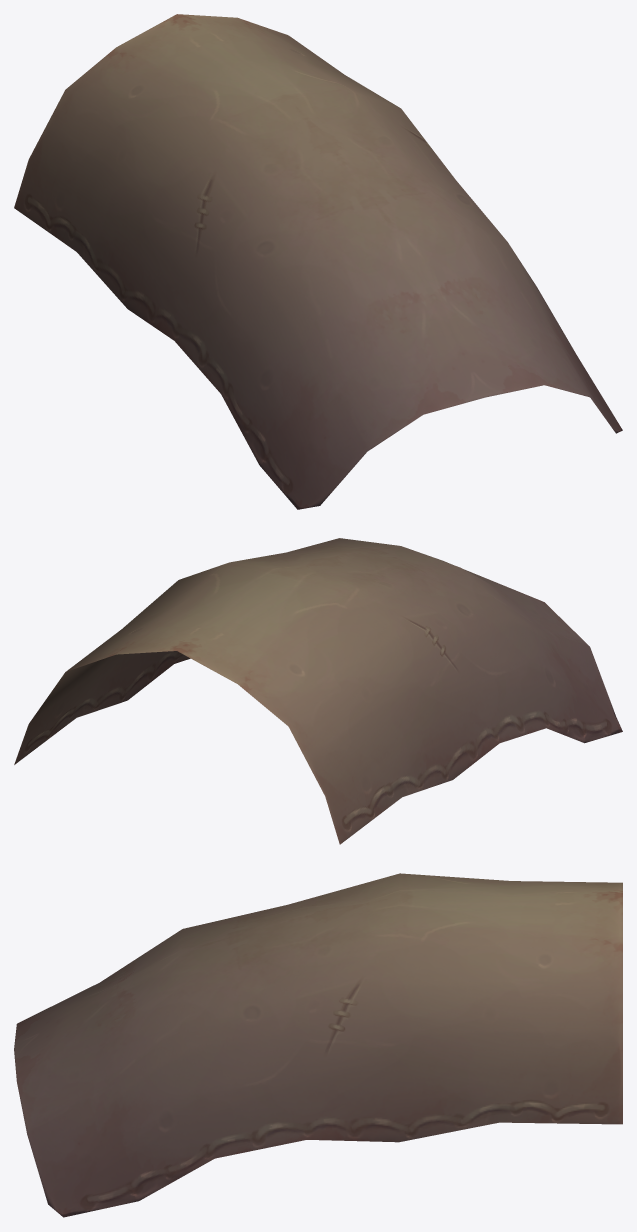
File: caravan_roof.fbx
3 views of the same model, one above another, from view 1: azimuth 30°, elevation 25°; view 2: azimuth 150°, elevation 25°; view 3: azimuth 270°, elevation 25° (orthographic).
Visible parts, largest first — view 1: caravan_roof; view 2: caravan_roof; view 3: caravan_roof.
Part boxes in pixels (bbox=[...]): caravan_roof: bbox=[14, 14, 622, 509]; caravan_roof: bbox=[14, 538, 622, 844]; caravan_roof: bbox=[14, 873, 622, 1217].
Bounding box in the file's own units: 1.18 × 0.8569 × 1.93.
